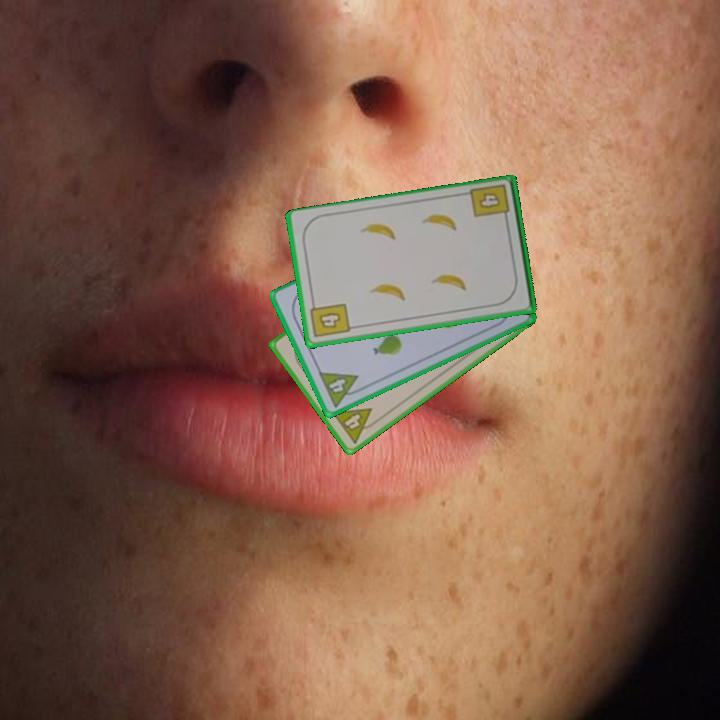4b: (467, 181, 513, 226), (307, 298, 353, 341)
4p: (328, 404, 382, 447), (315, 368, 366, 410)
